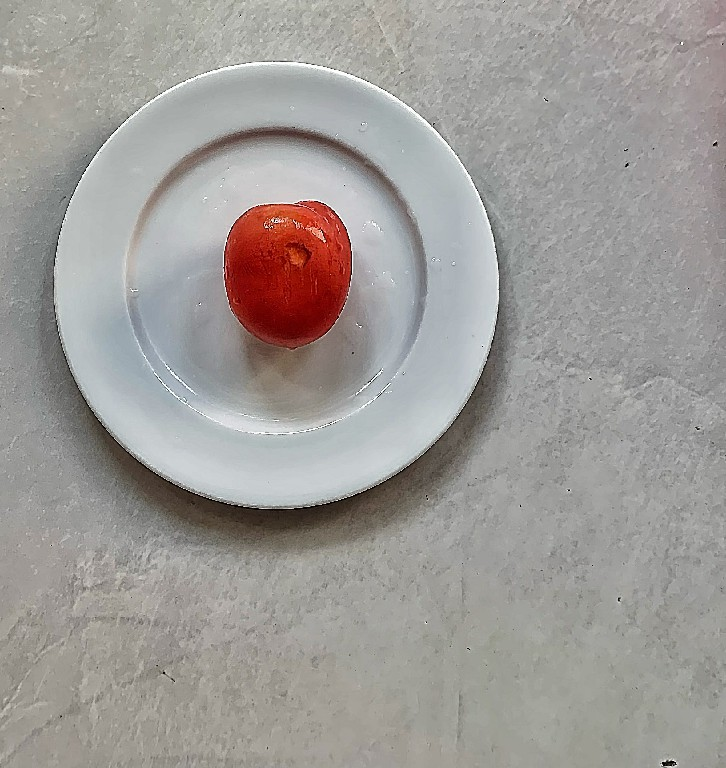NG: (222, 197, 355, 347)
